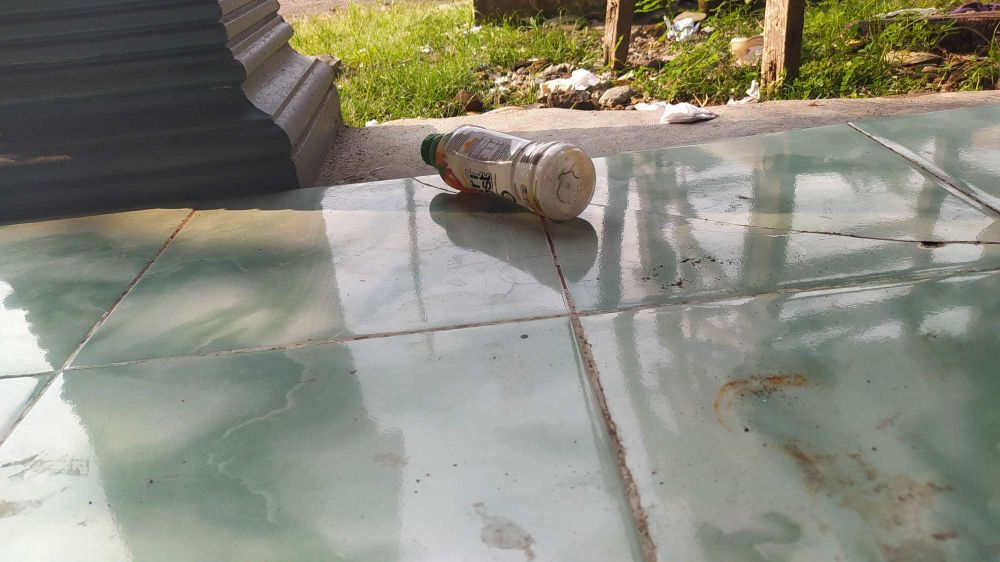botol: (404, 119, 609, 236)
